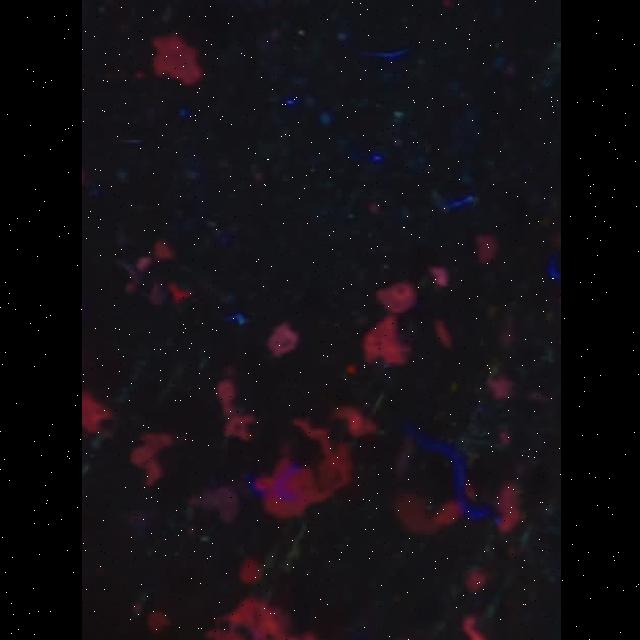Fragment: (150, 35, 200, 84)
